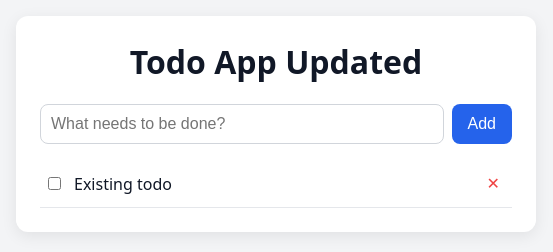
Test: App › deletes a todo
Expected: the text "Existing todo" is shown, [74,173,172,195]
Click the button "✕" at (493, 184), box [479,170,508,197]
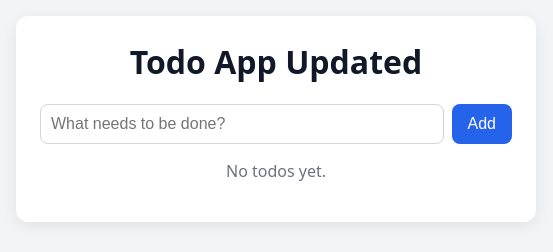
Now the text "No todos yet." is shown, box [226,160,326,182]
